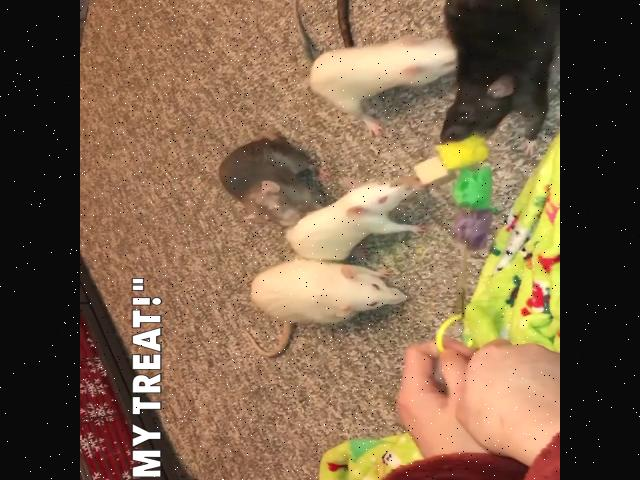Tikus: (436, 0, 558, 144), (304, 34, 452, 114), (248, 259, 410, 327), (284, 175, 416, 257), (217, 136, 321, 227)
